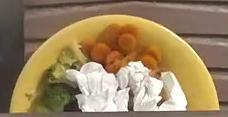carrots: (81, 24, 161, 73)
lettuce: (30, 46, 83, 112)
